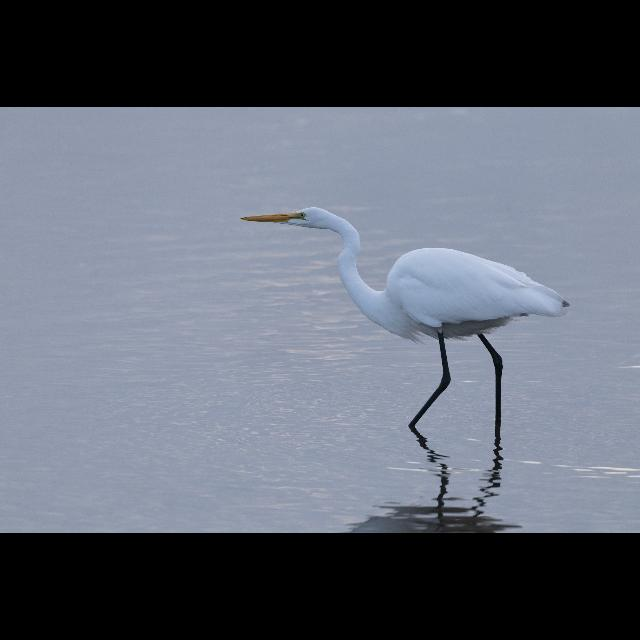egret: (234, 202, 576, 478)
